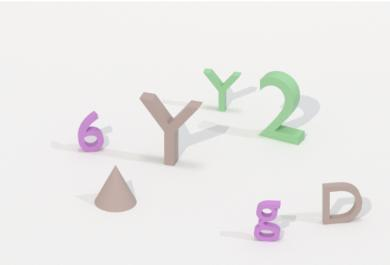0-TamGiac: (91, 162, 139, 217)
2: (254, 68, 308, 148)
6: (74, 108, 107, 155)
D: (319, 178, 364, 228)
Y: (137, 91, 204, 170), (199, 63, 242, 116)
g: (249, 197, 286, 245)
